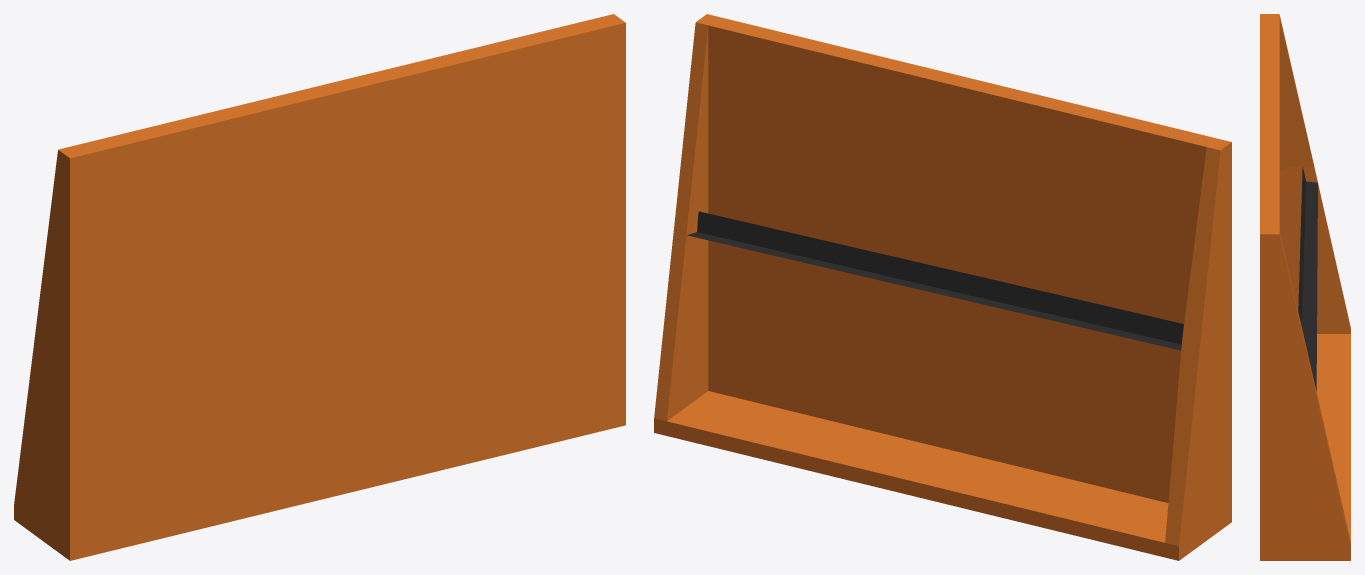
File: weapon_rack.fbx
The picture shows the model from 3 angles, left to right: view 1: azimuth 30°, elevation 25°; view 2: azimuth 150°, elevation 25°; view 3: azimuth 270°, elevation 25°; orthographic projection. The views are drawn at different scales.
Visible parts, largest first — view 1: weaponRack; view 2: weaponRack; view 3: weaponRack.
Boxes of the visible parts, bbox=[...] form: weaponRack: bbox=[14, 14, 625, 560]; weaponRack: bbox=[654, 14, 1231, 560]; weaponRack: bbox=[1260, 14, 1350, 560].
Bounding box in the file's own units: 601 × 416 × 105.
